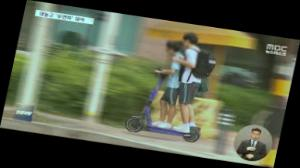multiple: (123, 26, 222, 144)
